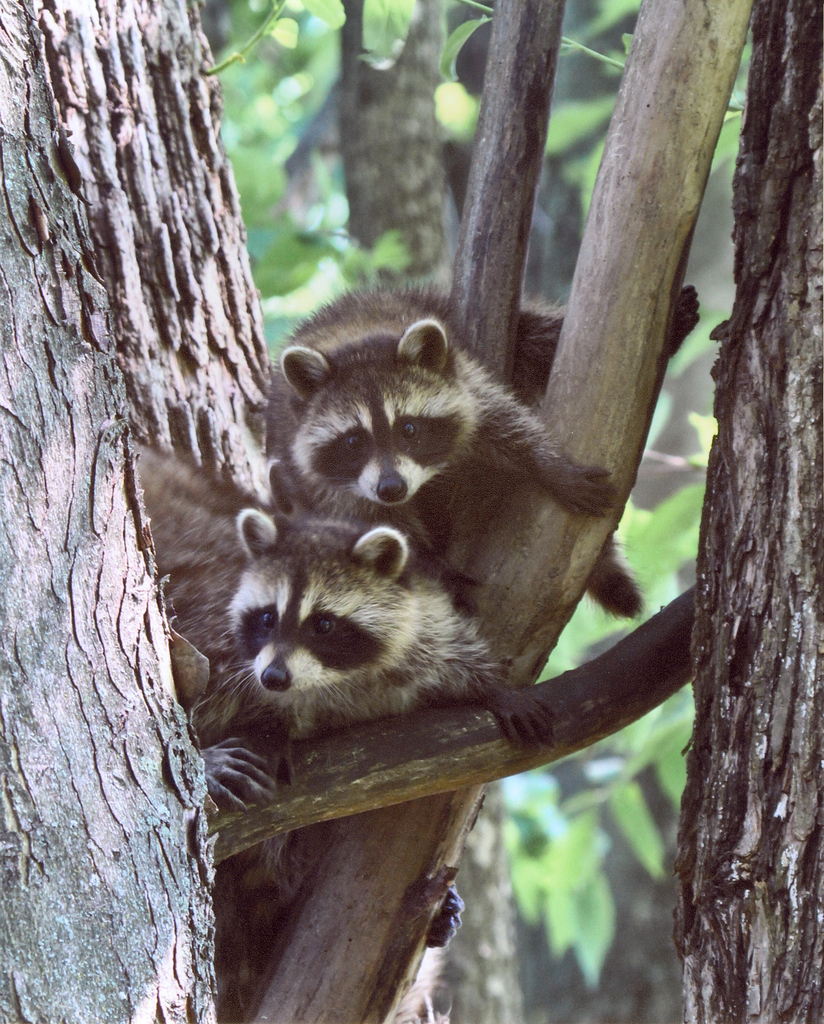raccoon: (130, 441, 554, 815), (273, 283, 701, 513)
